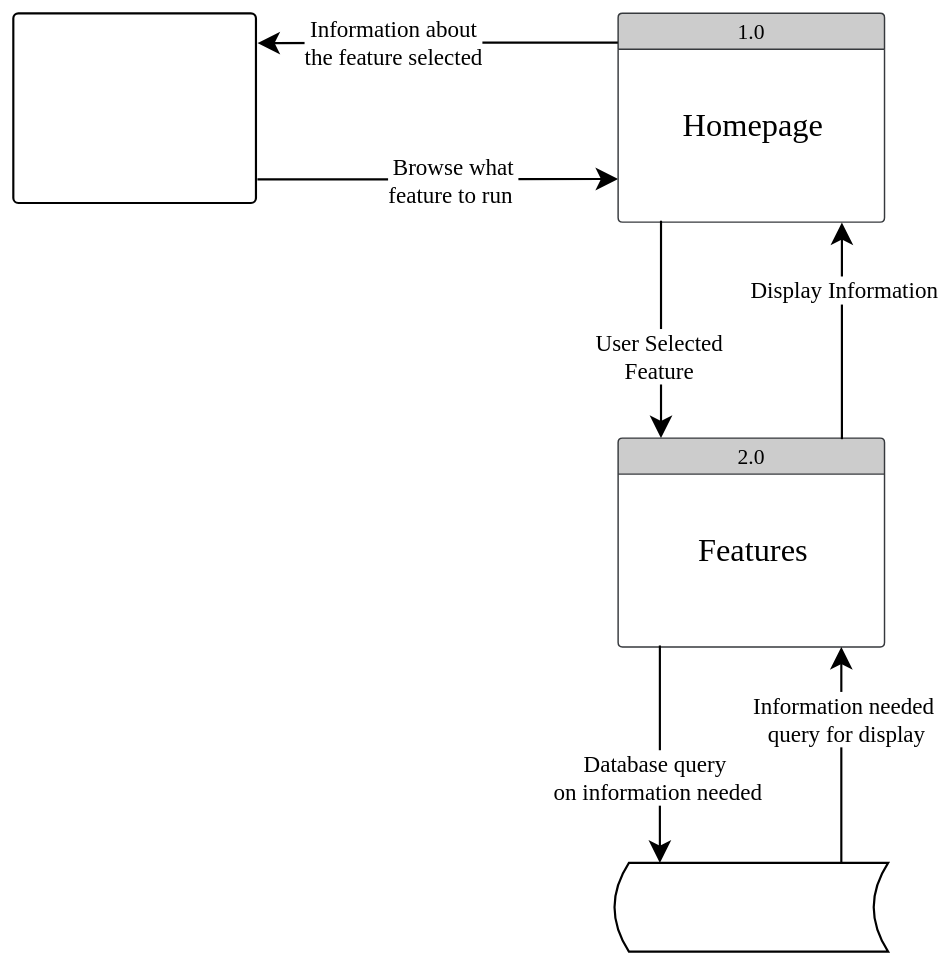
Image size: 952x966. Some labels were removed from this diagram. Here are the shapes that lost their labels. From the top down, the centre of each, then its label:
(134,108): User
(751,906): Database
